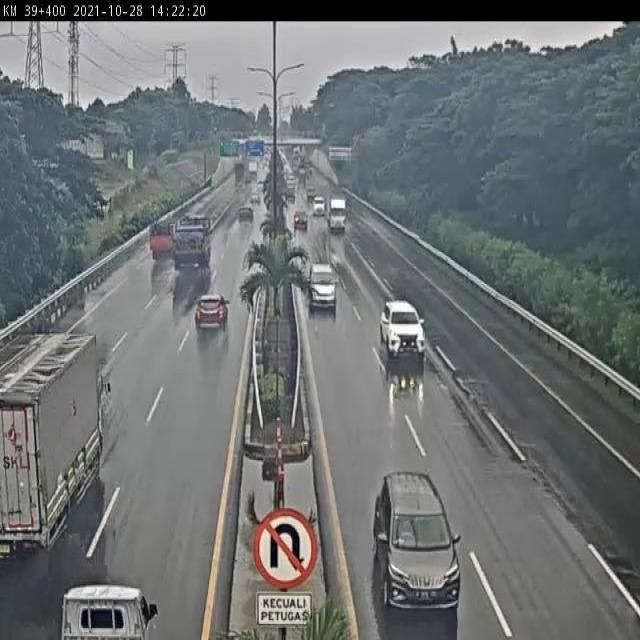car: (369, 471, 466, 616), (377, 293, 426, 360), (193, 296, 230, 337), (308, 260, 337, 308)
truck-l-: (0, 328, 106, 556), (169, 218, 213, 274)
truck-s-: (146, 221, 178, 263)
